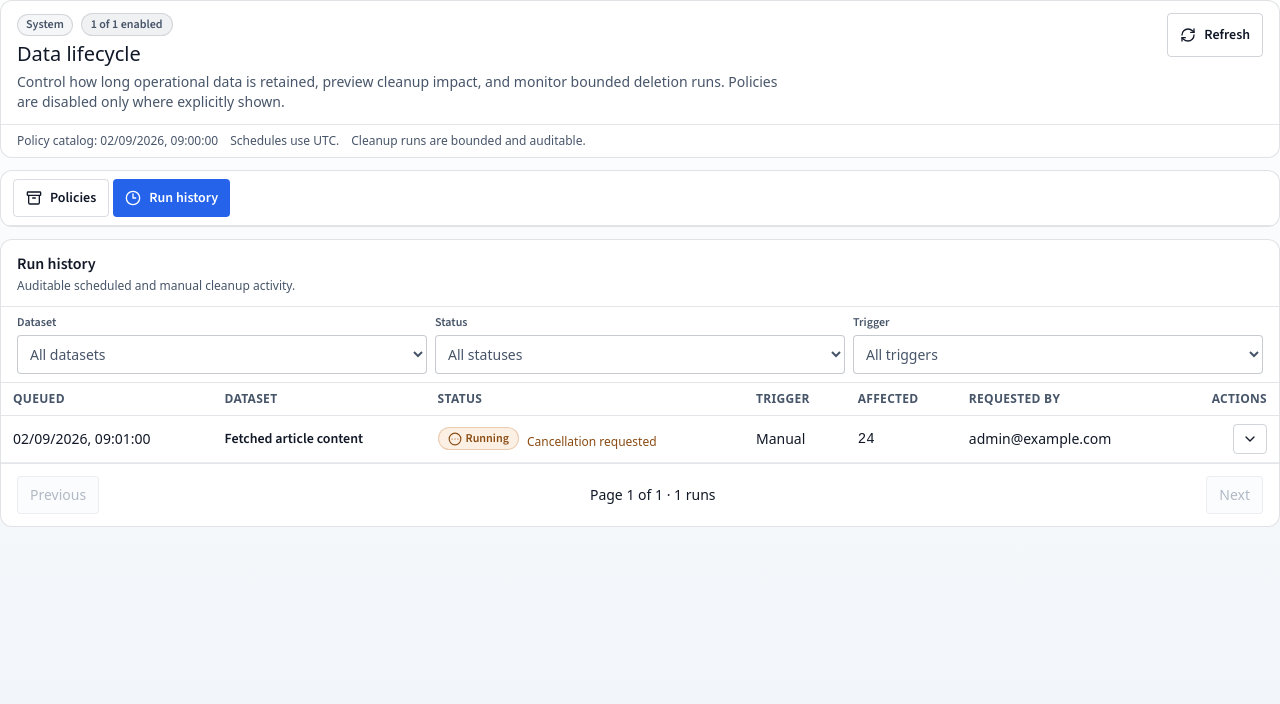
Test case: DataLifecyclePage › shows captured policy context and prevents duplicate cancellation requests
This screenshot has width=1280, height=704.
Click the button named "Show details for Fetched article content lifecycle run" at (1250, 439), box 1233,424 -> 1267,454
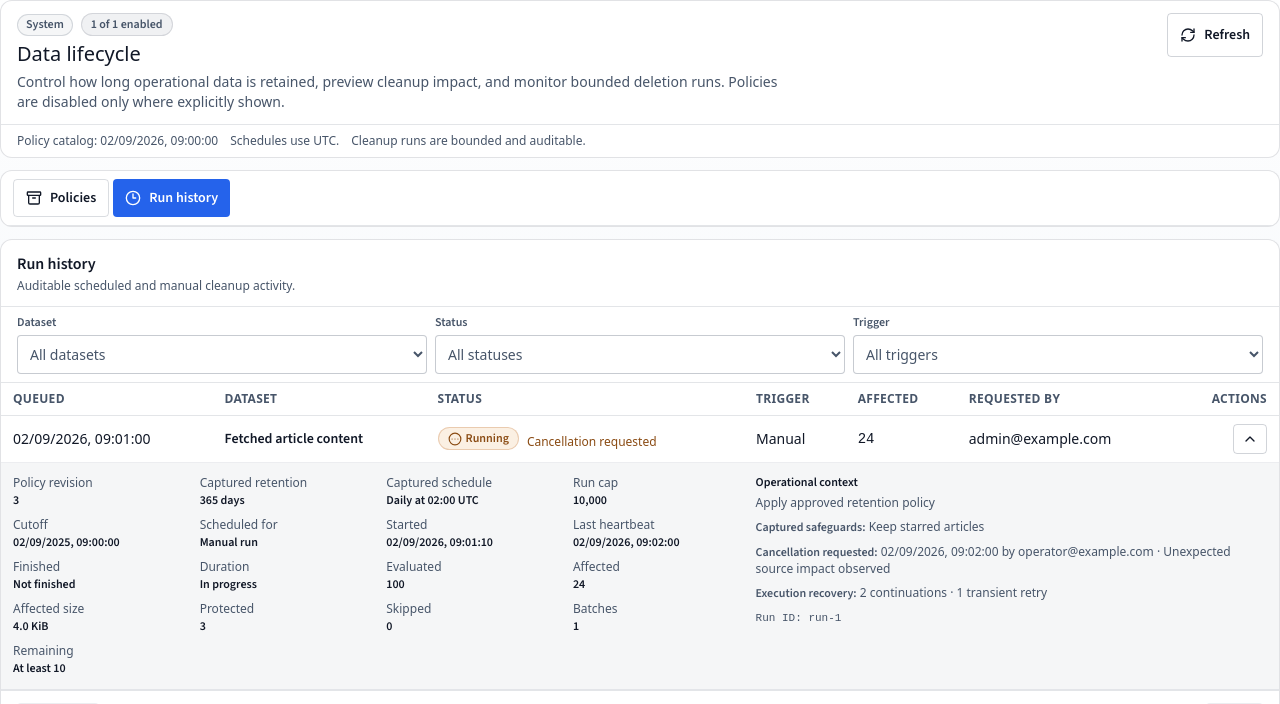
Expected: the text "Captured retention" is shown, 200,474 -> 307,491
Expected: the text "365 days" is shown, 200,492 -> 245,509
Expected: the text "10,000" is shown, 573,492 -> 607,509
